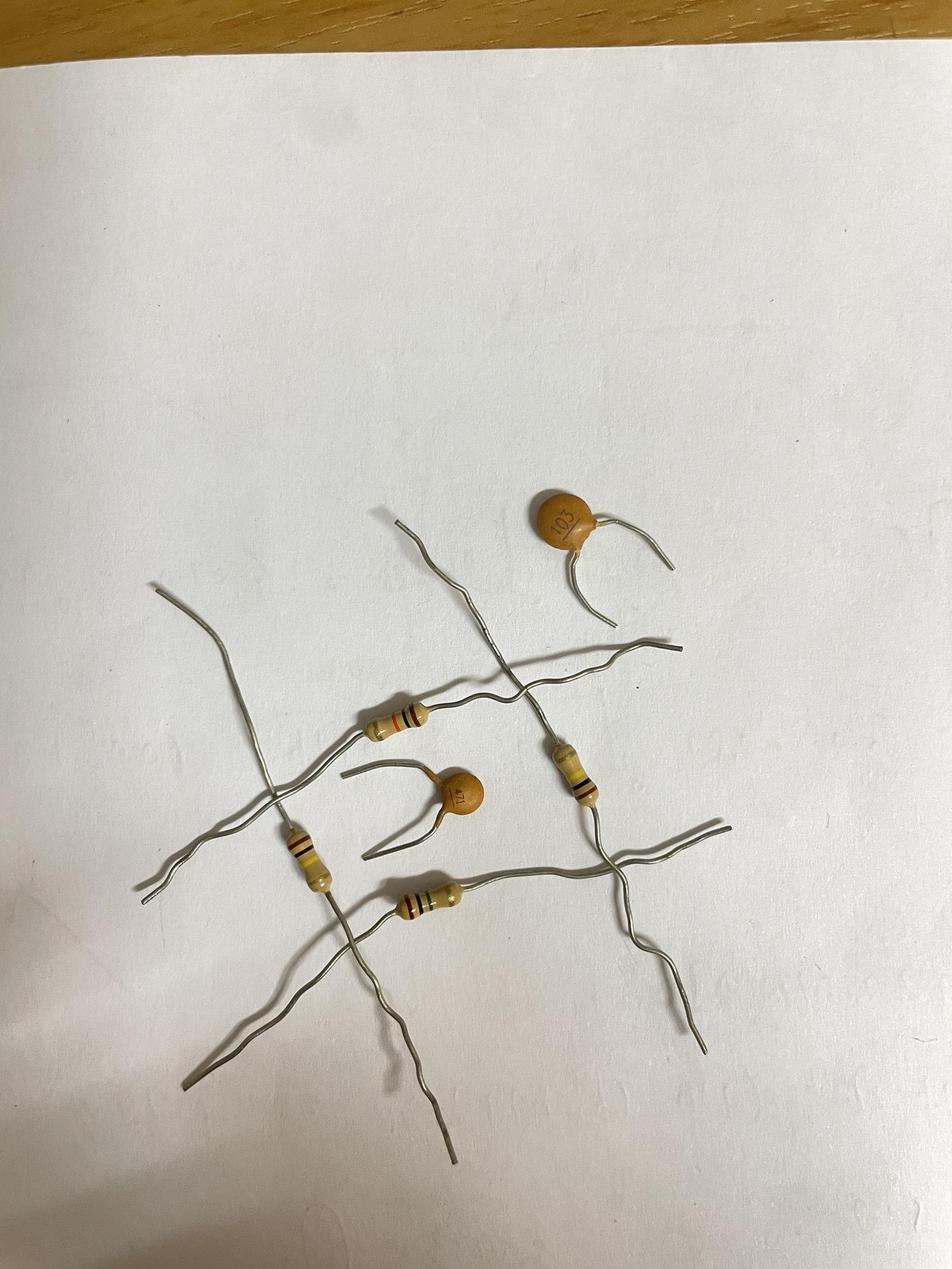resistor: (553, 742, 599, 807), (286, 829, 333, 892), (395, 880, 462, 920), (363, 702, 431, 741)
